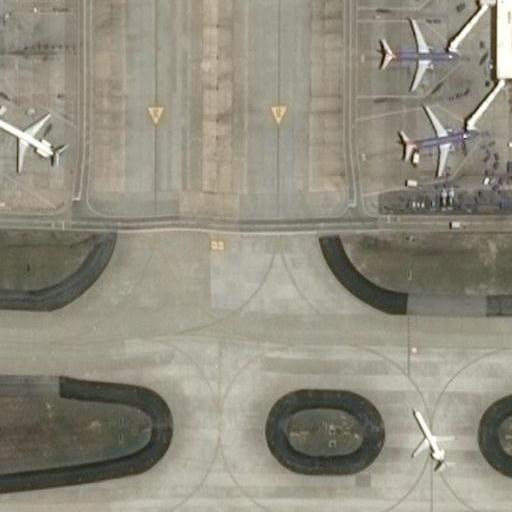Aircraft: (368, 9, 473, 95), (382, 106, 477, 183), (1, 99, 73, 174), (396, 400, 462, 480)
